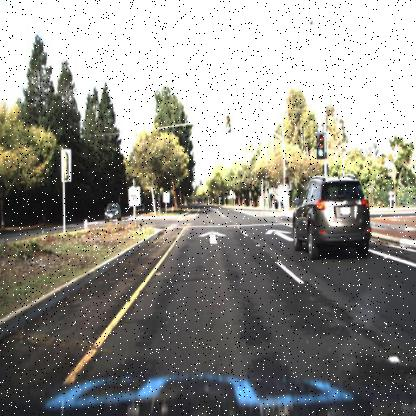car: (291, 175, 372, 261), (102, 200, 124, 223)
trafficLight-Green: (316, 126, 326, 162), (224, 121, 232, 136), (283, 155, 288, 174), (226, 115, 231, 130)
